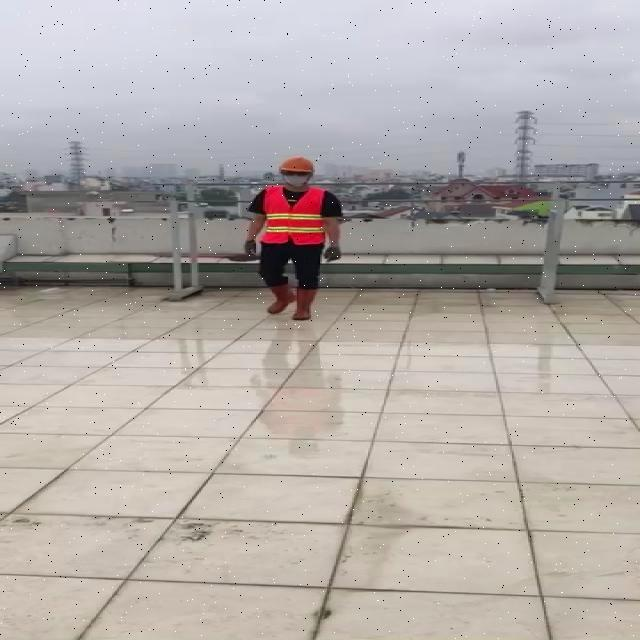Hard_hat: (277, 154, 318, 179)
Vest: (262, 188, 325, 247)
